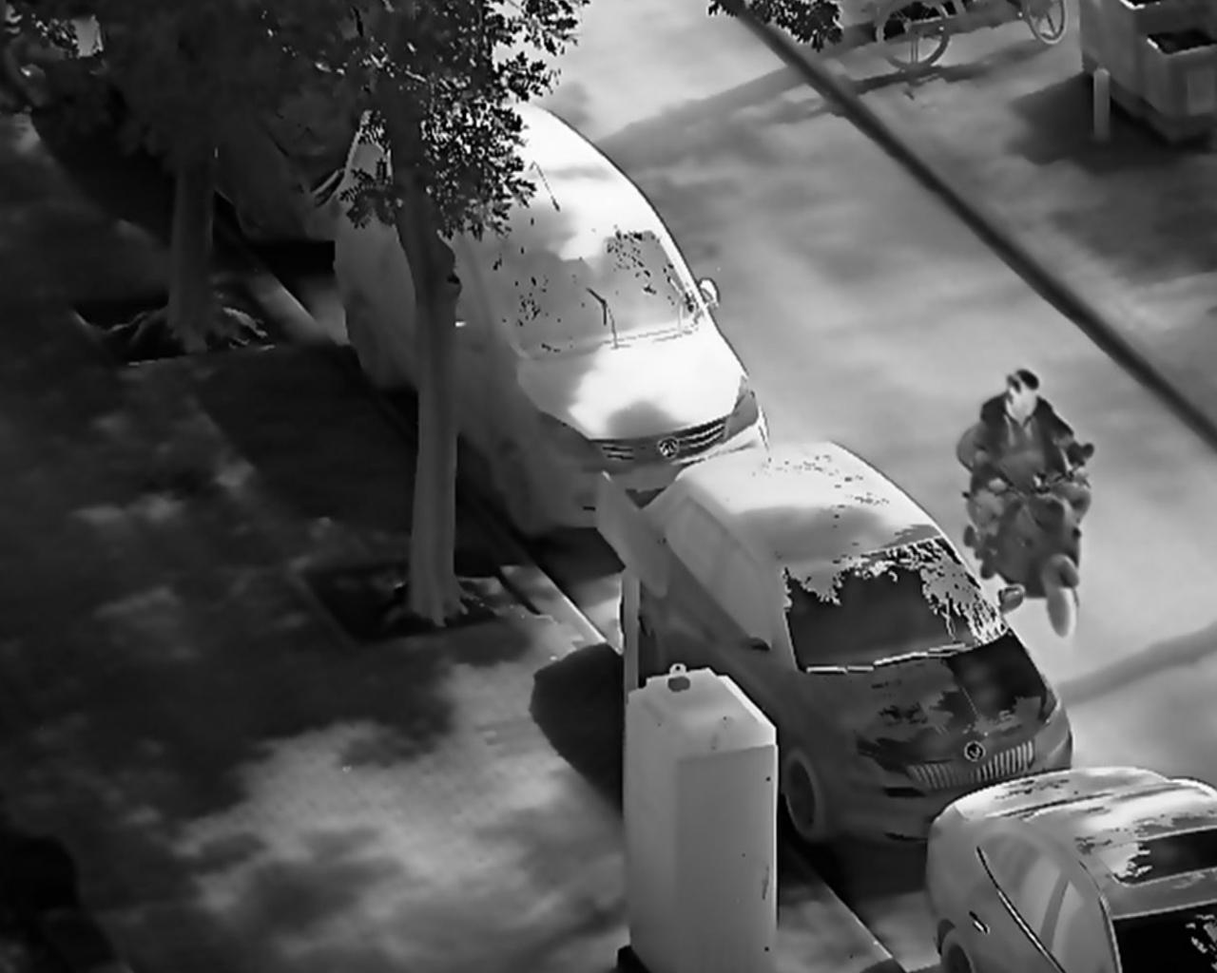person: (972, 363, 1104, 584)
